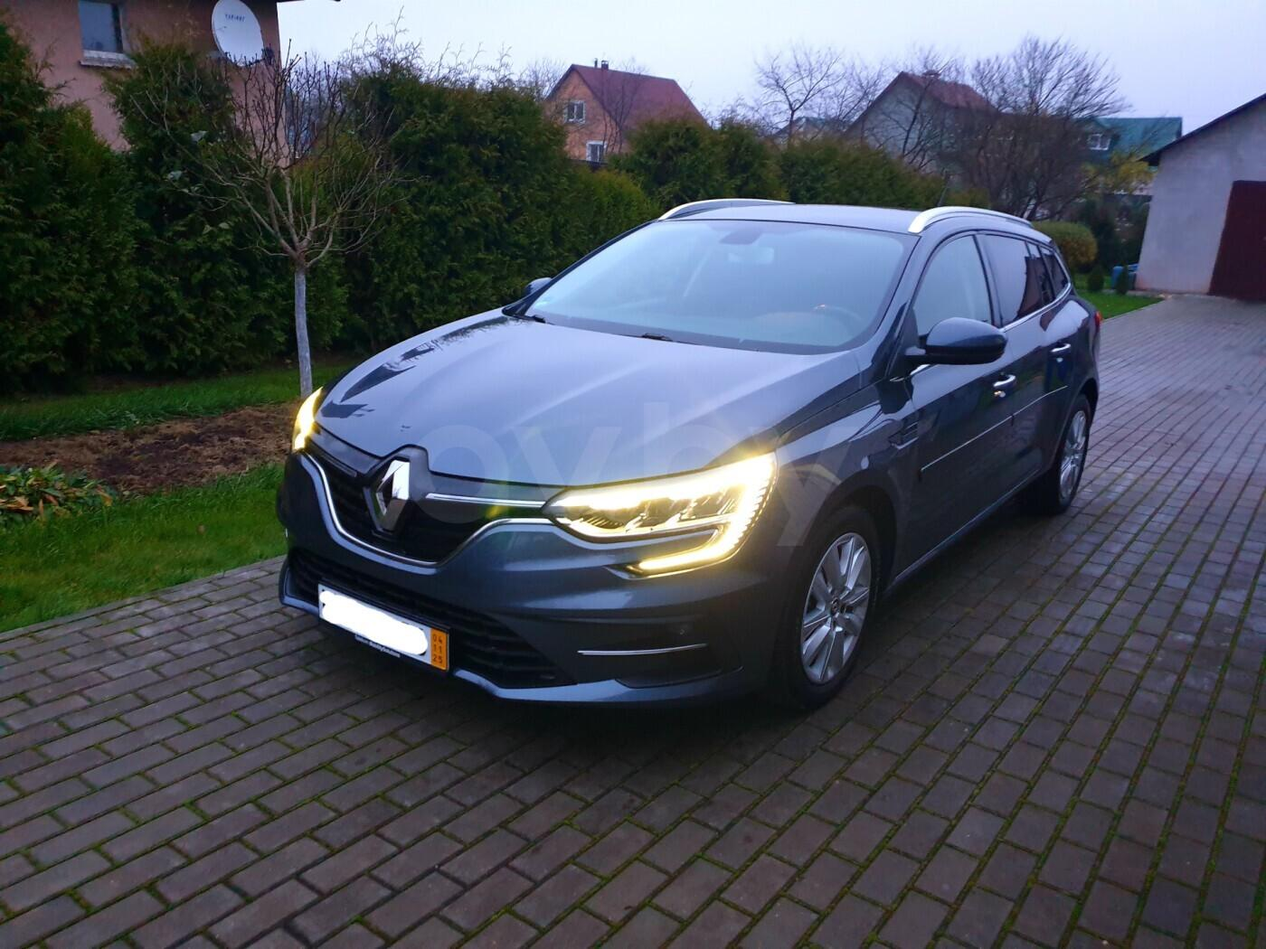Megane_2020: (279, 203, 1110, 741)
